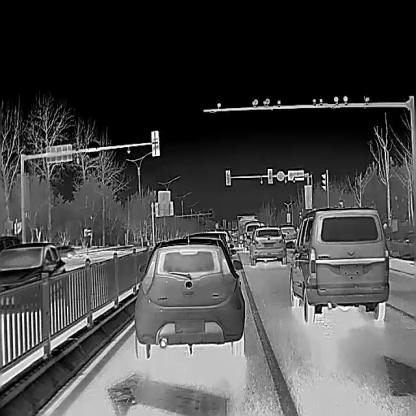car: (133, 240, 245, 359), (288, 207, 390, 324), (0, 240, 66, 308), (247, 225, 286, 266), (184, 232, 232, 260), (204, 228, 231, 247), (278, 223, 297, 248)
truck: (236, 214, 258, 249), (244, 220, 260, 252)
